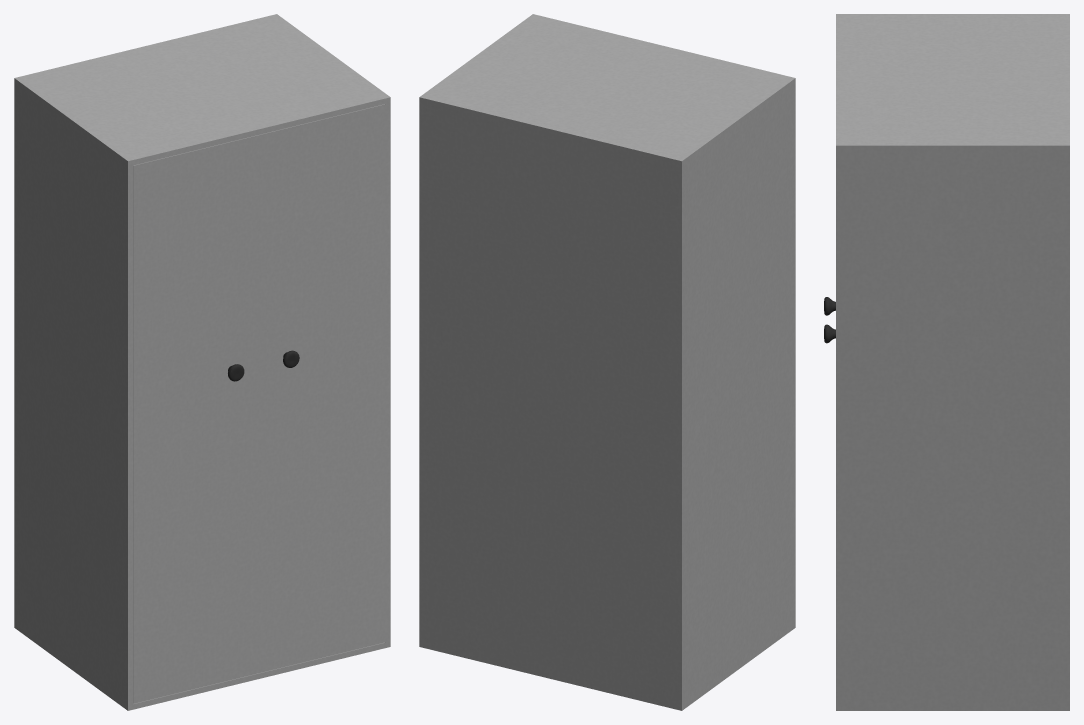
Rendered from Schrank groß.fbx.
3 renders of one model, left to right at view 1: azimuth 30°, elevation 25°; view 2: azimuth 150°, elevation 25°; view 3: azimuth 270°, elevation 25°, orthographic. The views are drawn at different scales.
Parts seen in each view (by area): view 1: Schrank_groß_1, Tuer_Links, Tuer_rechts; view 2: Schrank_groß_1; view 3: Schrank_groß_1.
Part boxes in pixels (x1,y1,x2,y2): Schrank_groß_1: (14, 14, 390, 710); Tuer_Links: (133, 135, 259, 703); Tuer_rechts: (259, 104, 385, 672); Schrank_groß_1: (419, 14, 795, 710); Schrank_groß_1: (836, 14, 1069, 710).
Size of the model in its own units: 100 by 200 by 78.79.
Materials: 1 (1 with a texture image).
